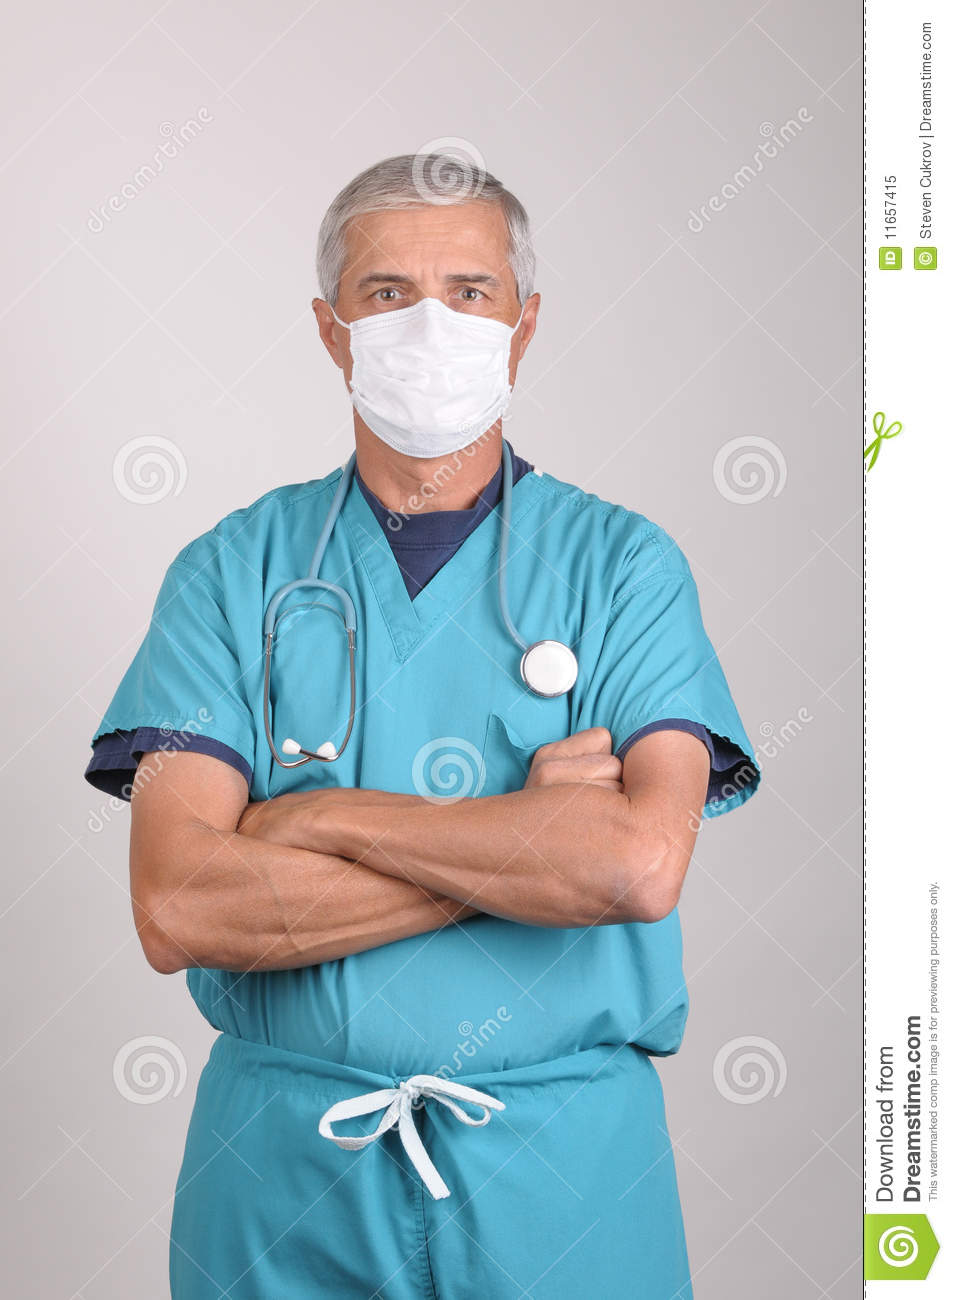mask: (350, 307, 526, 461)
